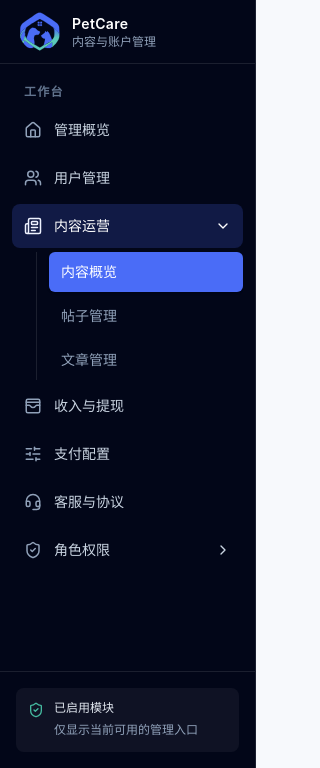
Test: Sidebar › supports collapsing and expanding a current content branch
Check: the link "帖子管理" is shown, box [61,307,117,324]
Click the button with aria-label "内容运营菜单": (128, 226) [12,204,243,248]
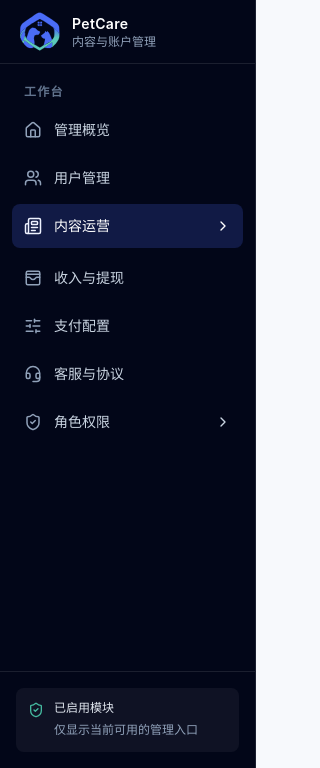
Check: the button with aria-label "内容运营菜单" is collapsed
Check: the link "帖子管理" is gone
Click the button with aria-label "内容运营菜单": (128, 226) [12,204,243,248]
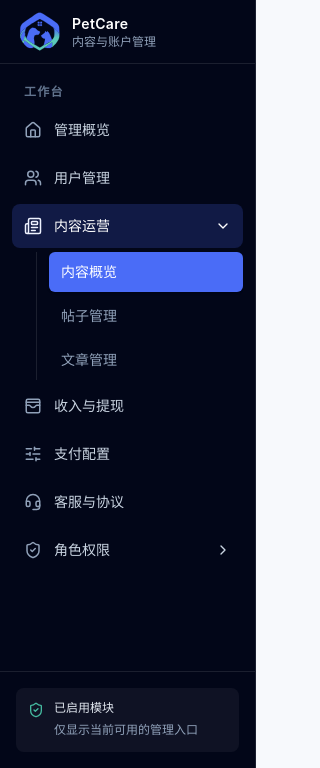
Check: the link "帖子管理" is shown, box [61,307,117,324]
